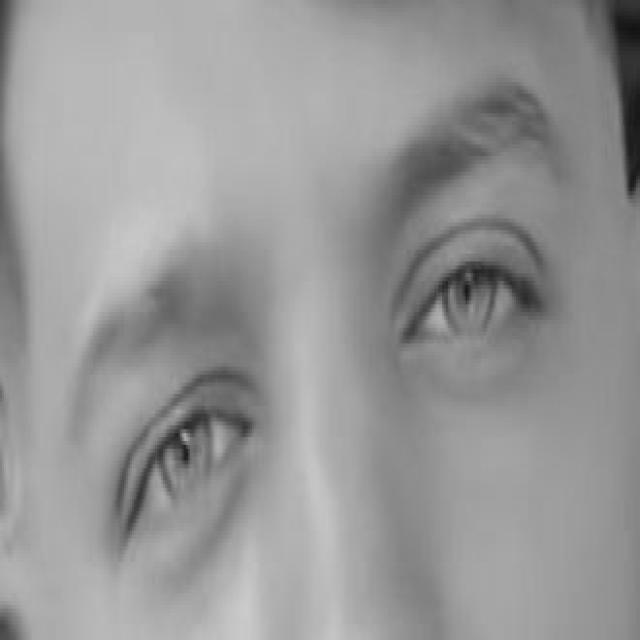real: (66, 140, 568, 540)
